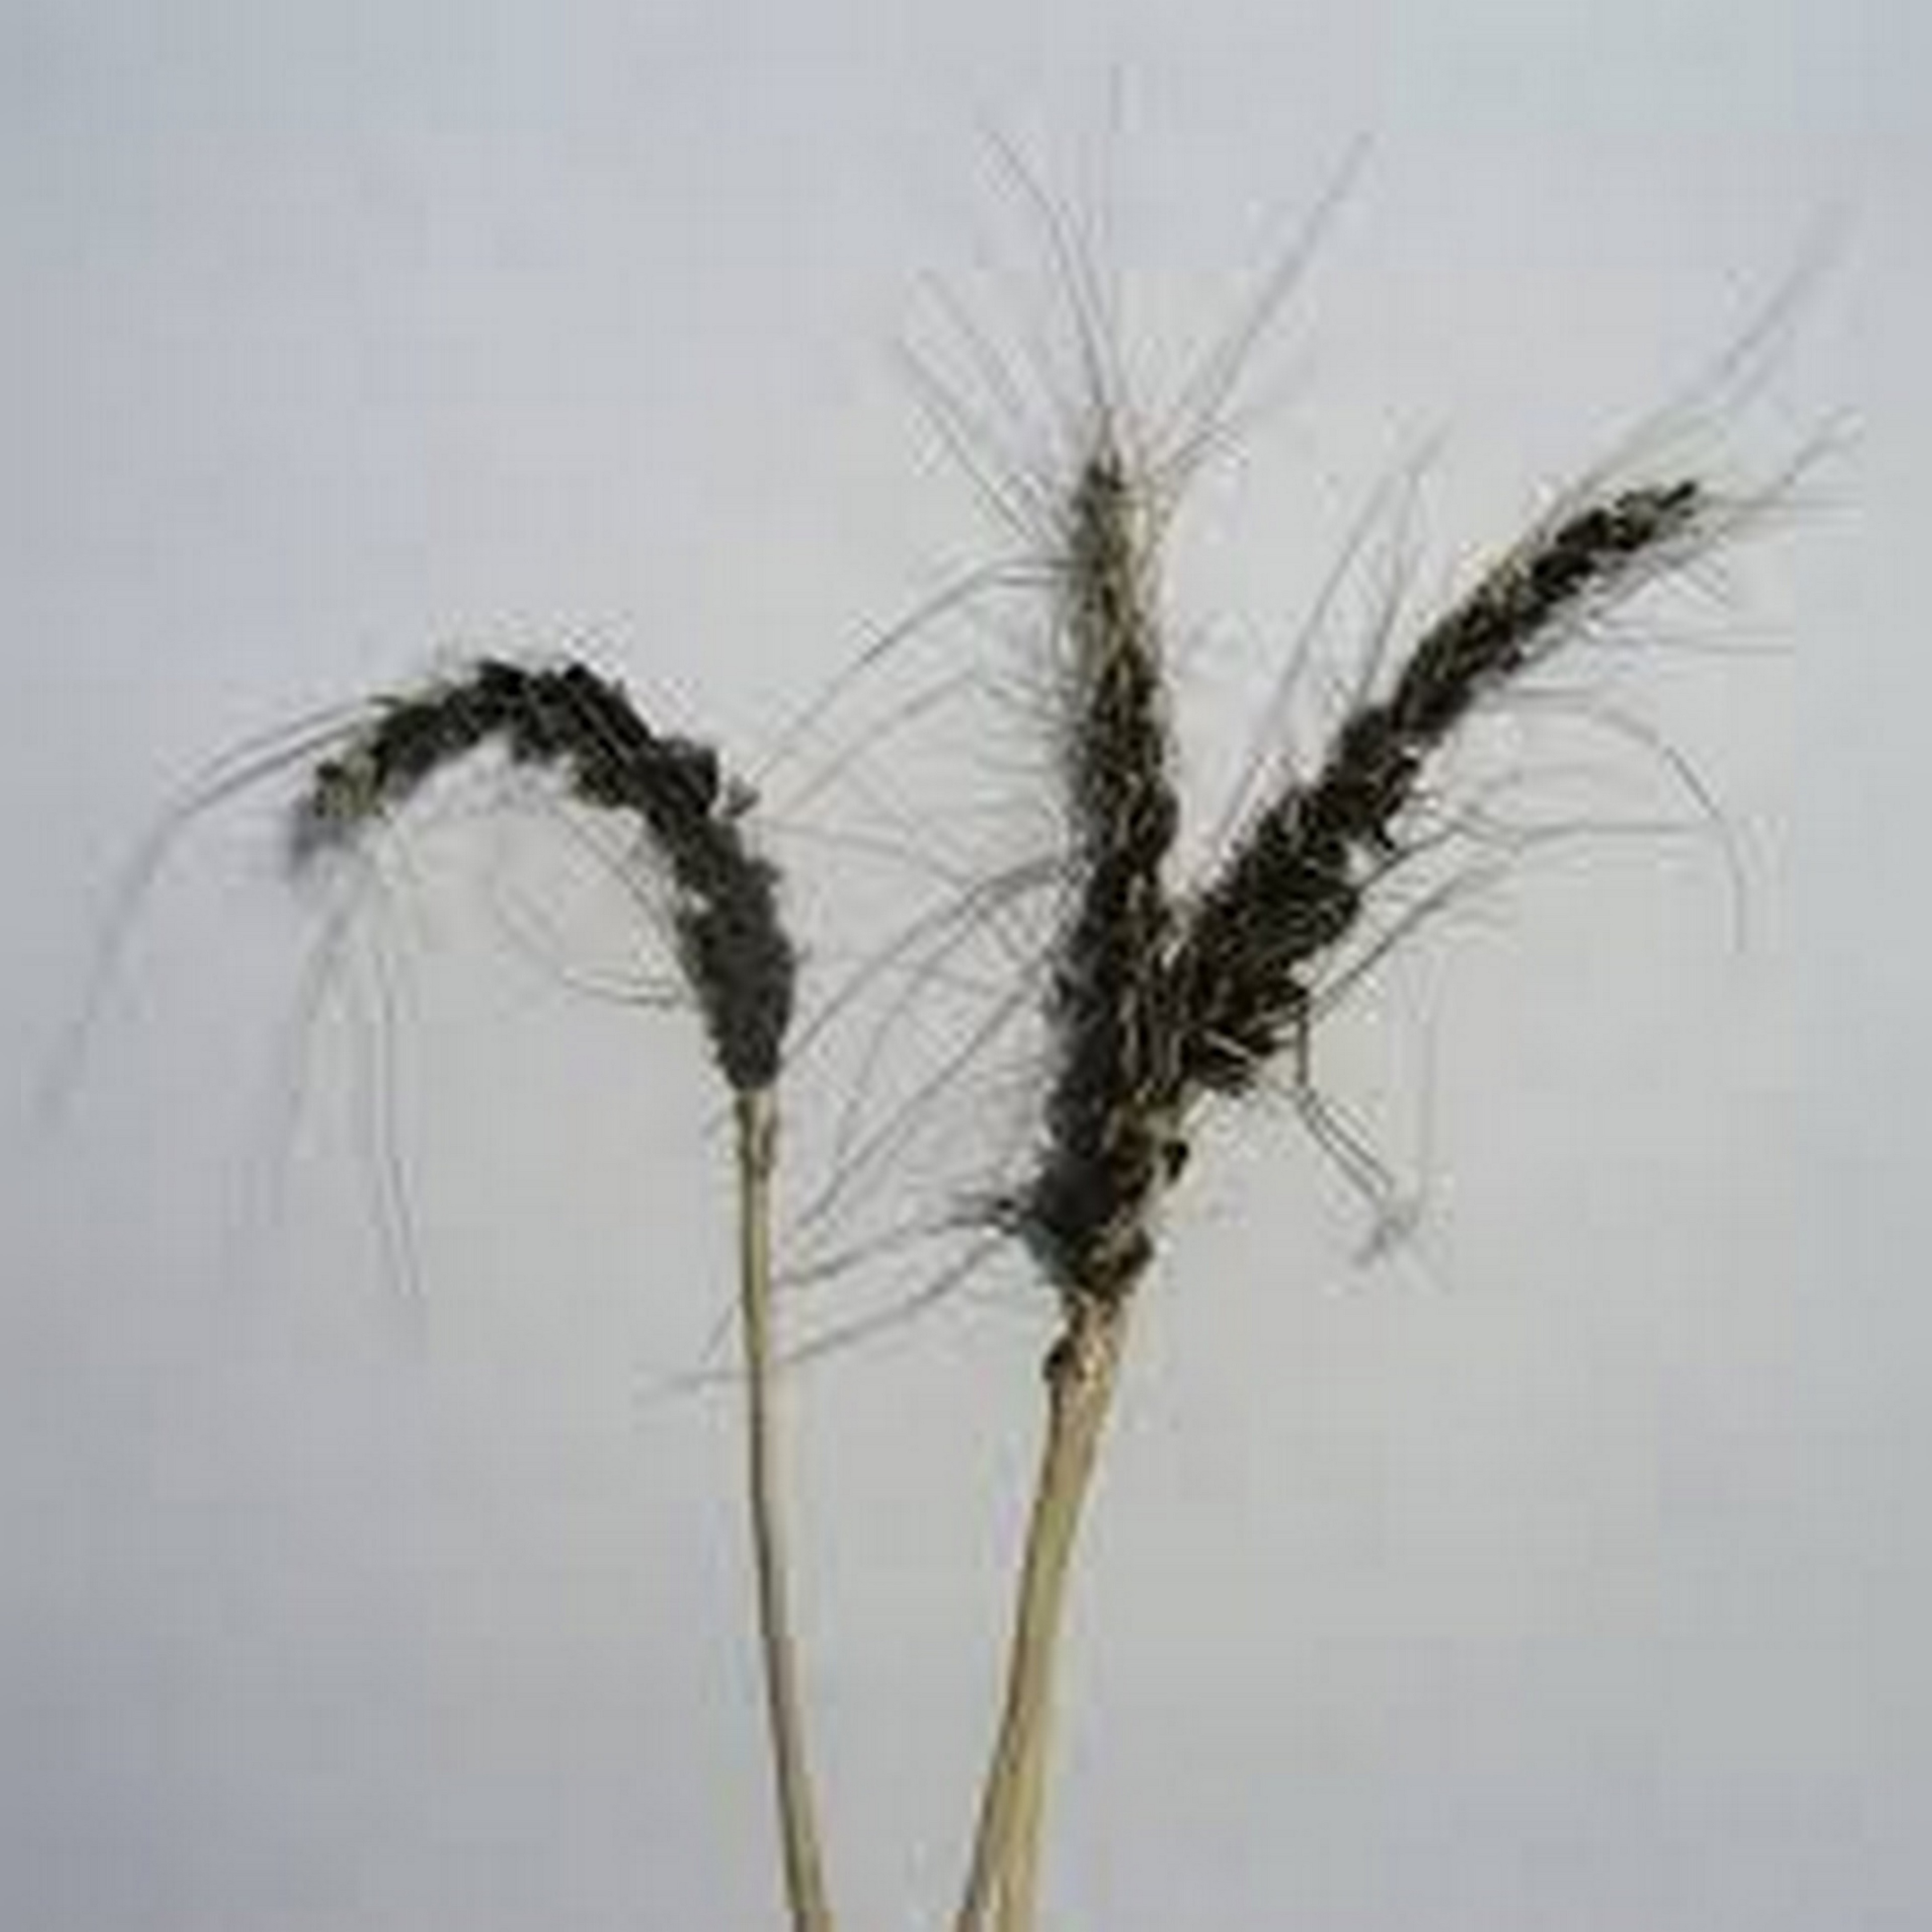Wheat Loose Smut: (287, 430, 1711, 1261)
